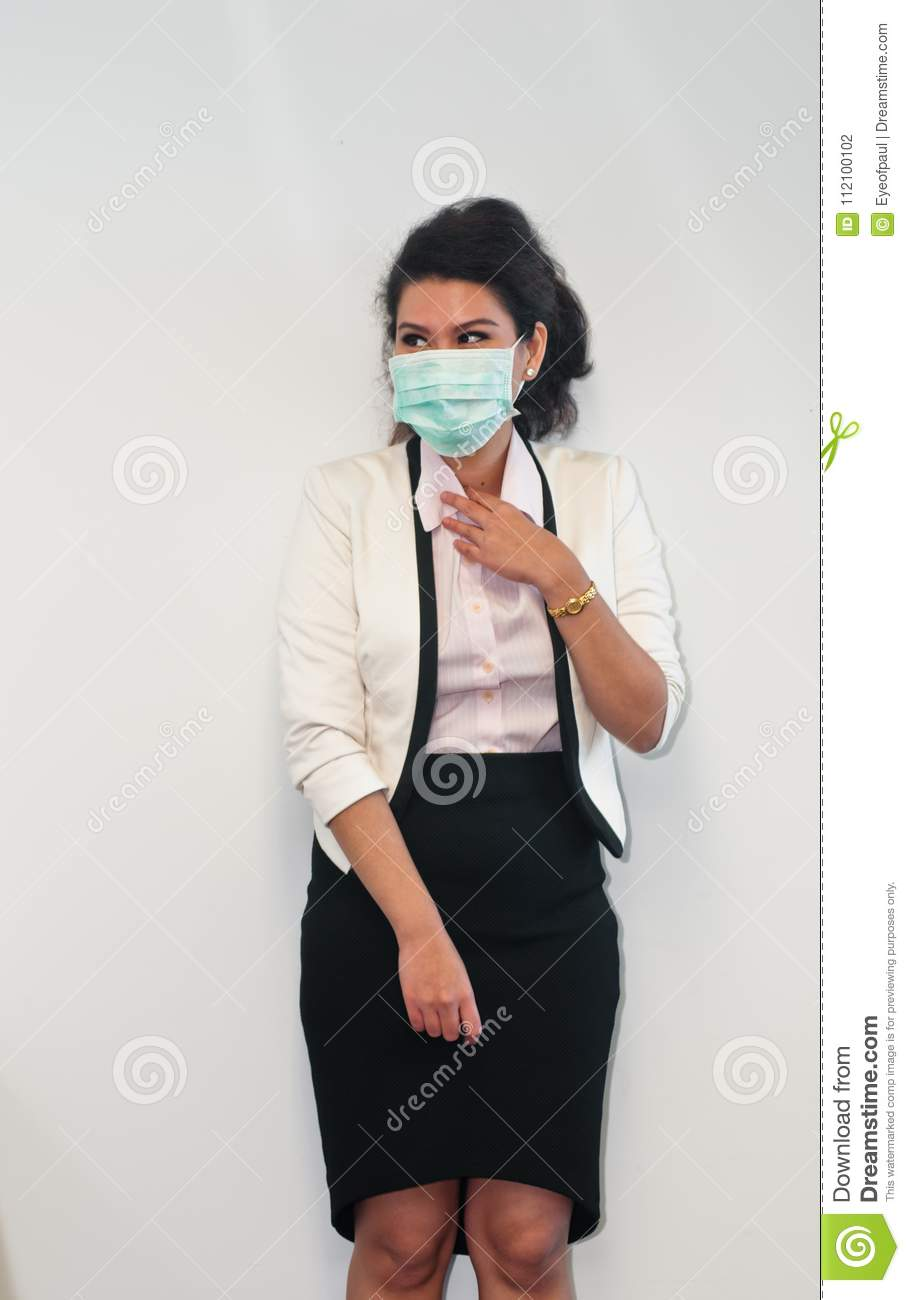mask: (385, 347, 519, 457)
